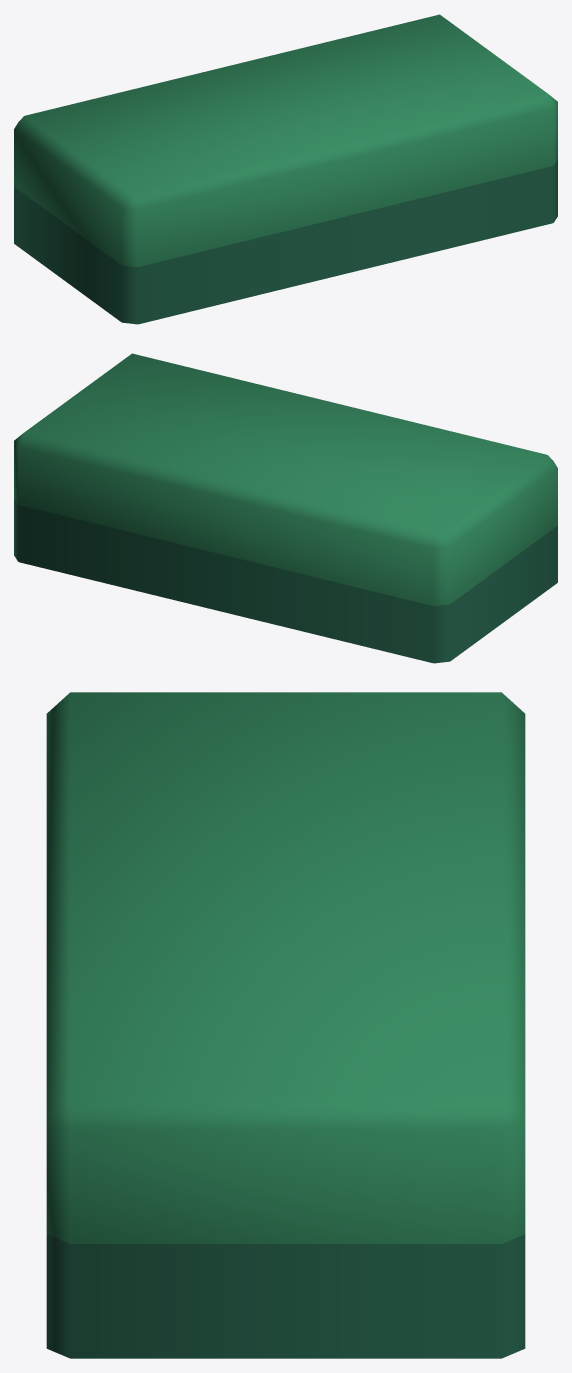
The model's file is RoofAdd_2_B_4.fbx.
3 views of the same model, one above another, from view 1: azimuth 30°, elevation 25°; view 2: azimuth 150°, elevation 25°; view 3: azimuth 270°, elevation 25° (orthographic). The views are drawn at different scales.
Visible parts, largest first — view 1: RoofAdd_2_B_4; view 2: RoofAdd_2_B_4; view 3: RoofAdd_2_B_4.
Boxes of the visible parts, box(x1,y1,x2,y2) form: RoofAdd_2_B_4: box(14, 14, 557, 324); RoofAdd_2_B_4: box(14, 353, 557, 663); RoofAdd_2_B_4: box(46, 692, 525, 1358).
Bounding box in the file's own units: 270 × 74.17 × 128.
